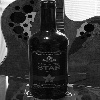beer: (27, 1, 71, 100)
